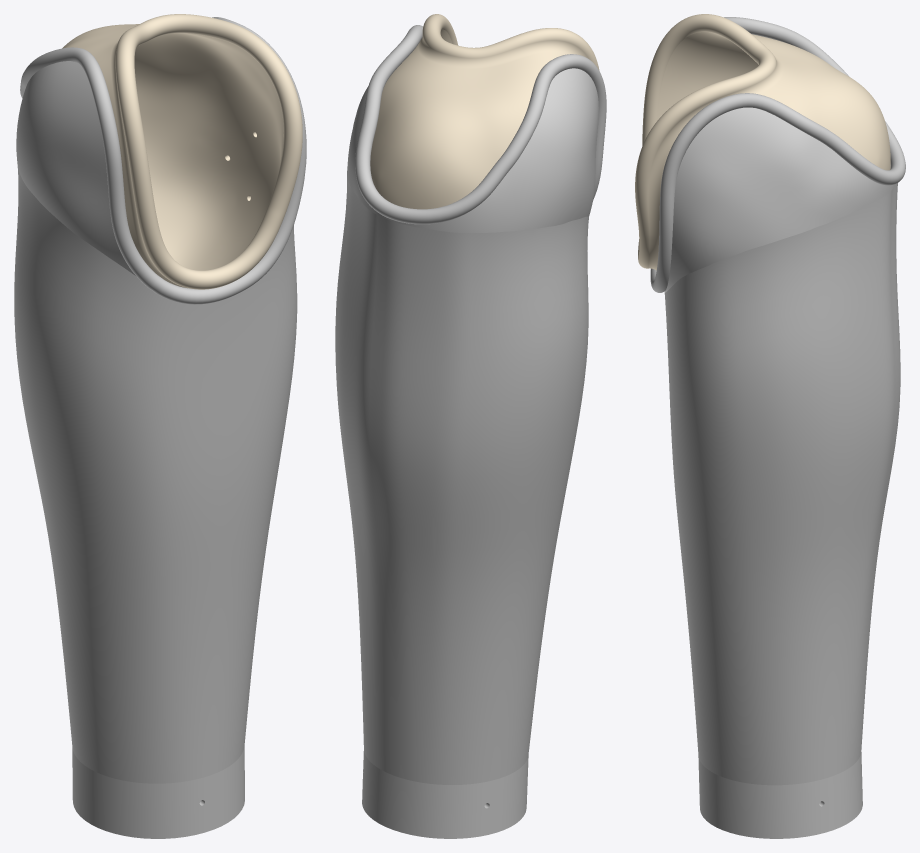
File: WOCAP.glb
The picture shows the model from 3 angles, left to right: view 1: azimuth 30°, elevation 25°; view 2: azimuth 150°, elevation 25°; view 3: azimuth 270°, elevation 25°; orthographic projection. The views are drawn at different scales.
Visible parts, largest first — view 1: 2.2, 2.1; view 2: 2.2, 2.1; view 3: 2.2, 2.1.
Boxes of the visible parts, x1,y1,x2,y2 form: 2.2: [14, 17, 306, 838]; 2.1: [62, 14, 302, 289]; 2.2: [335, 25, 606, 838]; 2.1: [370, 14, 599, 209]; 2.2: [650, 17, 905, 838]; 2.1: [635, 14, 890, 270].
Bounding box in the file's own units: 90.83 × 285 × 91.99.
